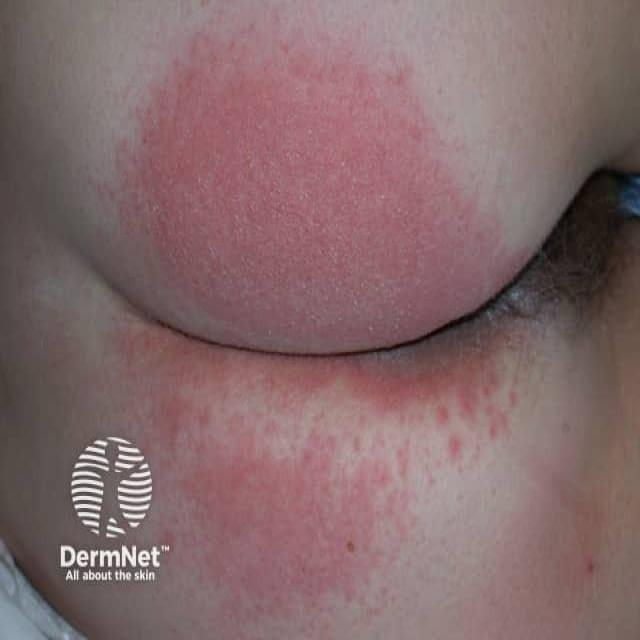Eczema: (112, 36, 521, 610)
